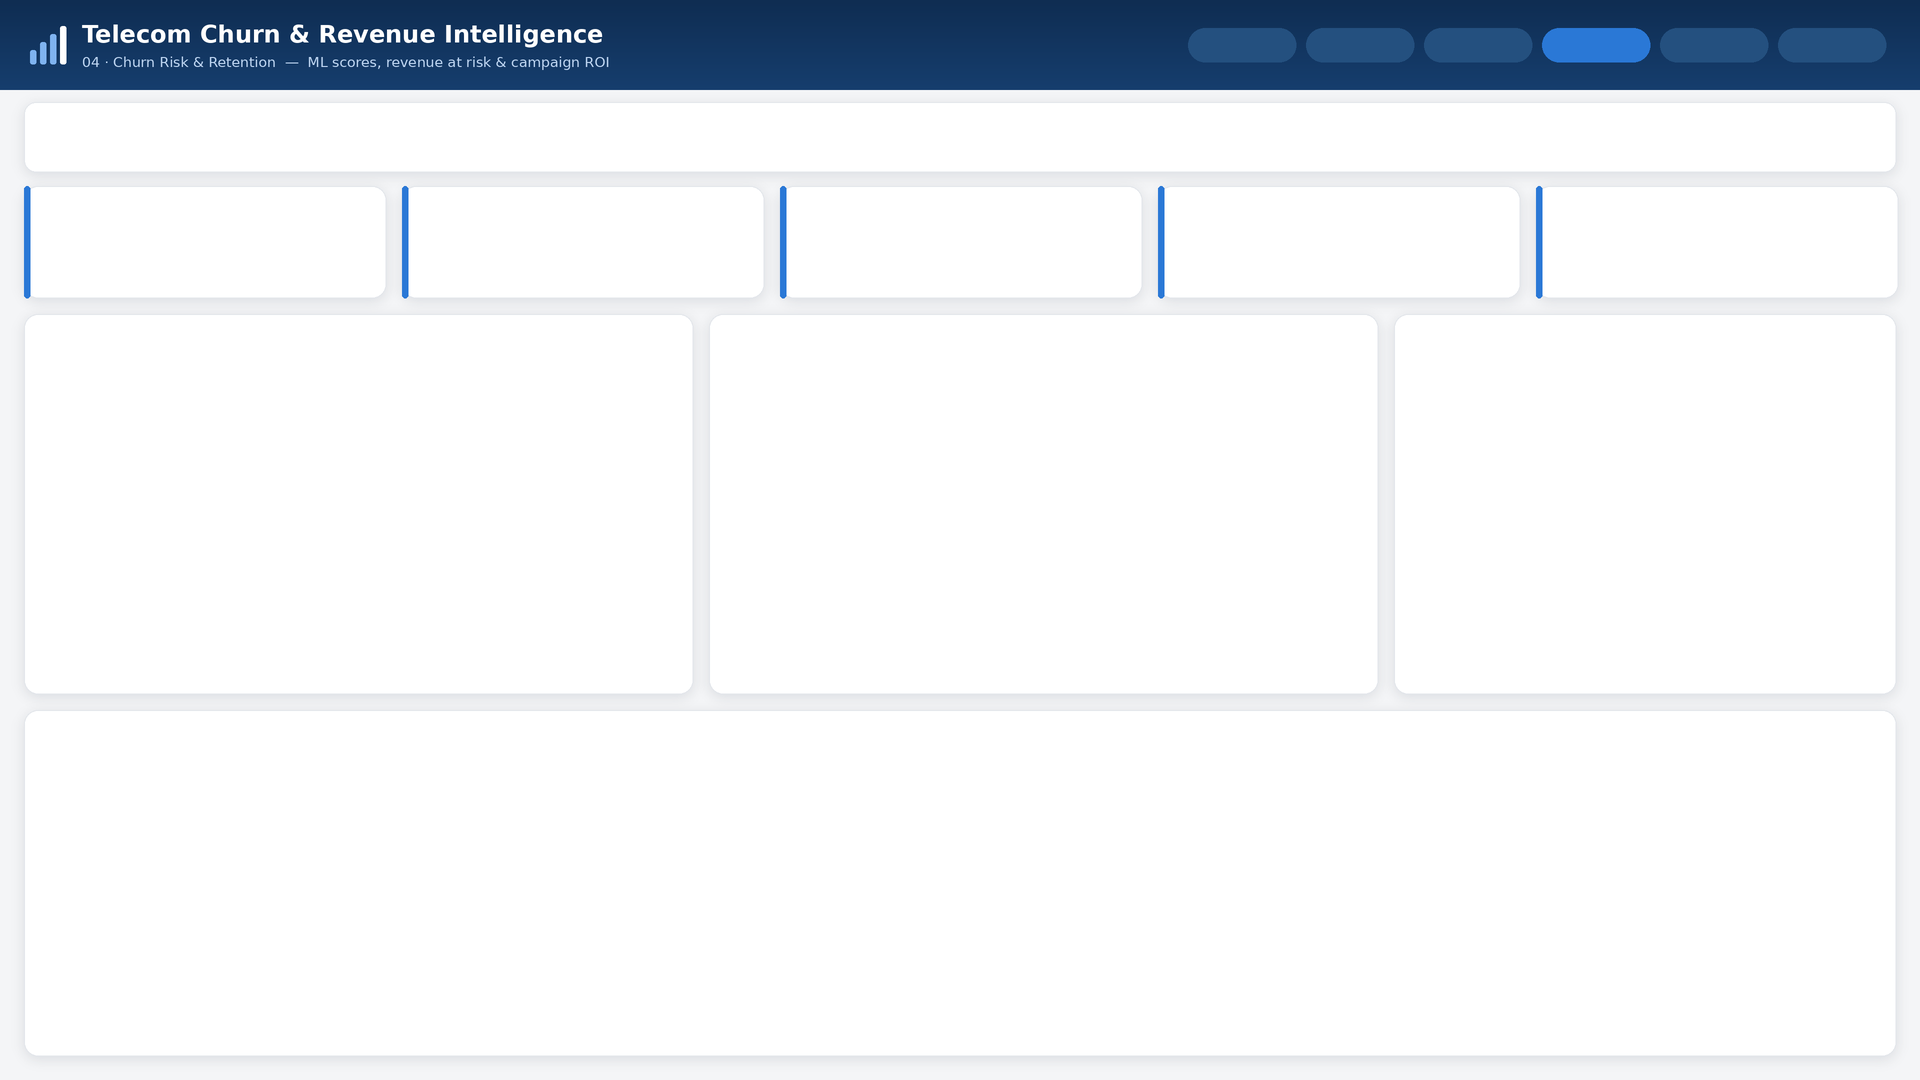

The dashboard page shown, as its layout file describes it:
{"tool":"powerbi","page":{"name":"Risk & Retention","canvas":[1280,720],"ordinal":3},"visuals":[{"type":"slicer","fields":{"Values":["dim_geography.circle"]},"box":[26,69,237.6,44.7],"z":0},{"type":"slicer","fields":{"Values":["dim_customer.service_type"]},"box":[273.6,69,237.6,44.7],"z":1000},{"type":"slicer","fields":{"Values":["fact_churn_predictions.risk_tier"]},"box":[521.2,69,237.6,44.7],"z":2000},{"type":"slicer","fields":{"Values":["Save Rate.Save Rate"]},"box":[768.8,69,237.6,44.7],"z":3000},{"type":"slicer","fields":{"Values":["Offer Cost.Offer Cost"]},"box":[1016.4,69,237.6,44.7],"z":4000},{"type":"card","fields":{"Values":["_Measures.High Risk Customers"]},"box":[28,128,225.3,66.7],"z":5000},{"type":"card","fields":{"Values":["_Measures.Medium Risk Customers"]},"box":[280,128,225.3,66.7],"z":6000},{"type":"card","fields":{"Values":["_Measures.Revenue at Risk"]},"box":[532,128,225.3,66.7],"z":7000},{"type":"card","fields":{"Values":["_Measures.High Risk Revenue"]},"box":[784,128,225.3,66.7],"z":8000},{"type":"card","fields":{"Values":["_Measures.Avg Churn Probability"]},"box":[1036,128,225.3,66.7],"z":9000},{"type":"clusteredBarChart","title":"Next-best action (High + Medium)","fields":{"Category":["fact_churn_predictions.next_best_action"],"Y":["_Measures.Targeted Customers"]},"box":[20,213.3,438,245.3],"z":10000},{"type":"clusteredBarChart","title":"Revenue at risk by circle & tier","fields":{"Category":["dim_geography.circle"],"Series":["fact_churn_predictions.risk_tier"],"Y":["_Measures.Revenue at Risk"]},"box":[476.7,213.3,438,245.3],"z":11000},{"type":"multiRowCard","title":"Retention campaign ROI","fields":{"Values":["_Measures.Targeted Customers","_Measures.Campaign Cost","_Measures.Revenue Saved (Gross Margin)","_Measures.Campaign Net Benefit","_Measures.Campaign ROI %"]},"box":[933.3,213.3,326.7,245.3],"z":12000},{"type":"tableEx","title":"Retention call list","fields":{"Values":["fact_churn_predictions.customer_id","fact_churn_predictions.circle","fact_churn_predictions.plan_name","fact_churn_predictions.contract_type","fact_churn_predictions.monthly_charges","fact_churn_predictions.churn_probability","fact_churn_predictions.risk_tier","fact_churn_predictions.revenue_at_risk","fact_churn_predictions.next_best_action"]},"box":[20,477.3,1240,222.7],"z":13000}]}

Visuals, with their boxes in screenshot pixels (x1, y1, x2, y2), scaled from the page's 1280x720 canvas onto the 1920x1080 screenshot:
slicer - dim_geography.circle: <bbox>39, 104, 395, 171</bbox>
slicer - dim_customer.service_type: <bbox>410, 104, 767, 171</bbox>
slicer - fact_churn_predictions.risk_tier: <bbox>782, 104, 1138, 171</bbox>
slicer - Save Rate.Save Rate: <bbox>1153, 104, 1510, 171</bbox>
slicer - Offer Cost.Offer Cost: <bbox>1525, 104, 1881, 171</bbox>
card - _Measures.High Risk Customers: <bbox>42, 192, 380, 292</bbox>
card - _Measures.Medium Risk Customers: <bbox>420, 192, 758, 292</bbox>
card - _Measures.Revenue at Risk: <bbox>798, 192, 1136, 292</bbox>
card - _Measures.High Risk Revenue: <bbox>1176, 192, 1514, 292</bbox>
card - _Measures.Avg Churn Probability: <bbox>1554, 192, 1892, 292</bbox>
"Next-best action (High + Medium)" clusteredBarChart: <bbox>30, 320, 687, 688</bbox>
"Revenue at risk by circle & tier" clusteredBarChart: <bbox>715, 320, 1372, 688</bbox>
"Retention campaign ROI" multiRowCard: <bbox>1400, 320, 1890, 688</bbox>
"Retention call list" tableEx: <bbox>30, 716, 1890, 1050</bbox>
